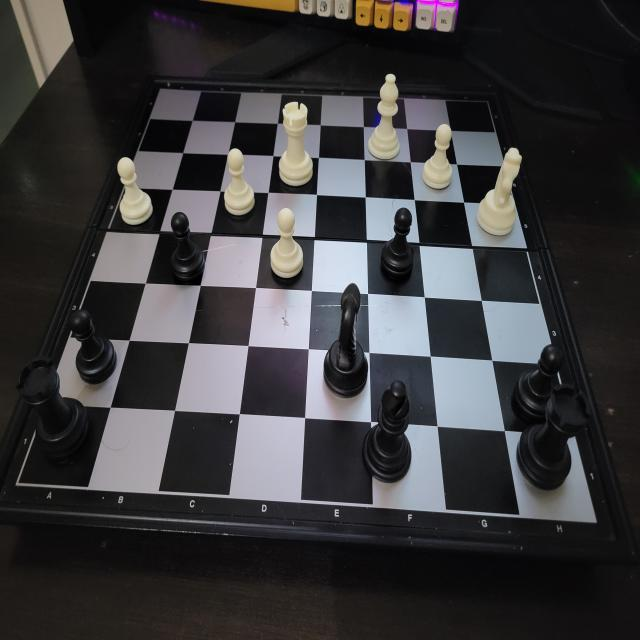black-bishop: (366, 379, 412, 485)
black-knight: (323, 282, 370, 400)
black-pawn: (513, 343, 566, 419), (68, 308, 118, 382), (380, 207, 415, 282), (170, 210, 205, 284)
black-rook: (518, 382, 594, 493), (16, 356, 91, 465)
chess-board: (9, 83, 606, 559)
white-bishop: (367, 72, 400, 160)
white-knight: (476, 147, 526, 242)
white-pawn: (116, 155, 155, 229), (269, 208, 304, 282), (223, 147, 257, 220), (422, 122, 454, 192)
white-rook: (278, 100, 314, 190)
